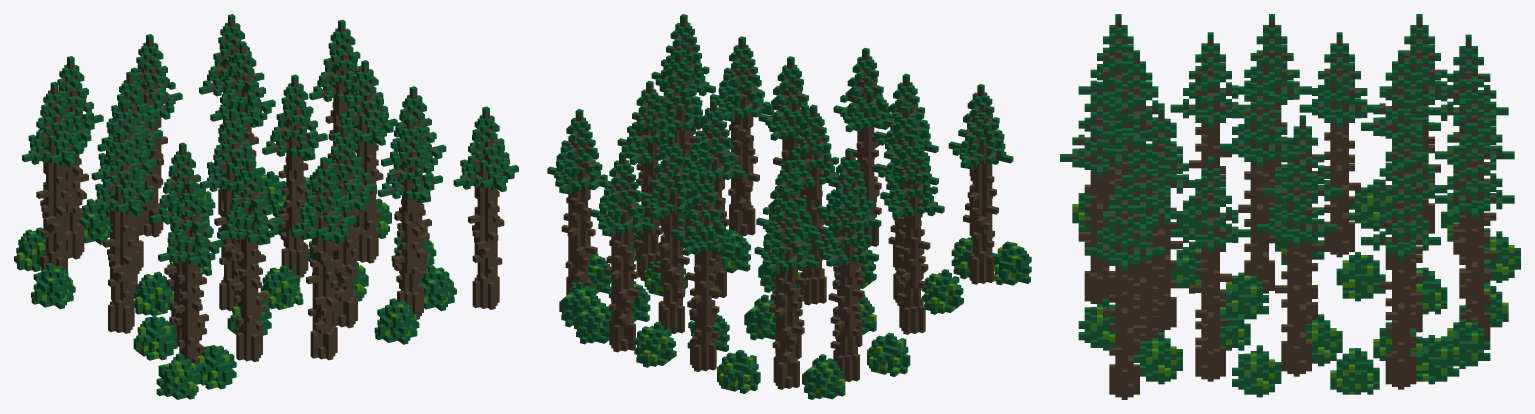
The model's file is trees_13_overtile.obj.
3 views of the same model, side by side, from view 1: azimuth 30°, elevation 25°; view 2: azimuth 150°, elevation 25°; view 3: azimuth 270°, elevation 25° (orthographic). The views are drawn at different scales.
Size of the model in its own units: 7.7 by 3.9 by 7.5.
1 material, 1 textured.
